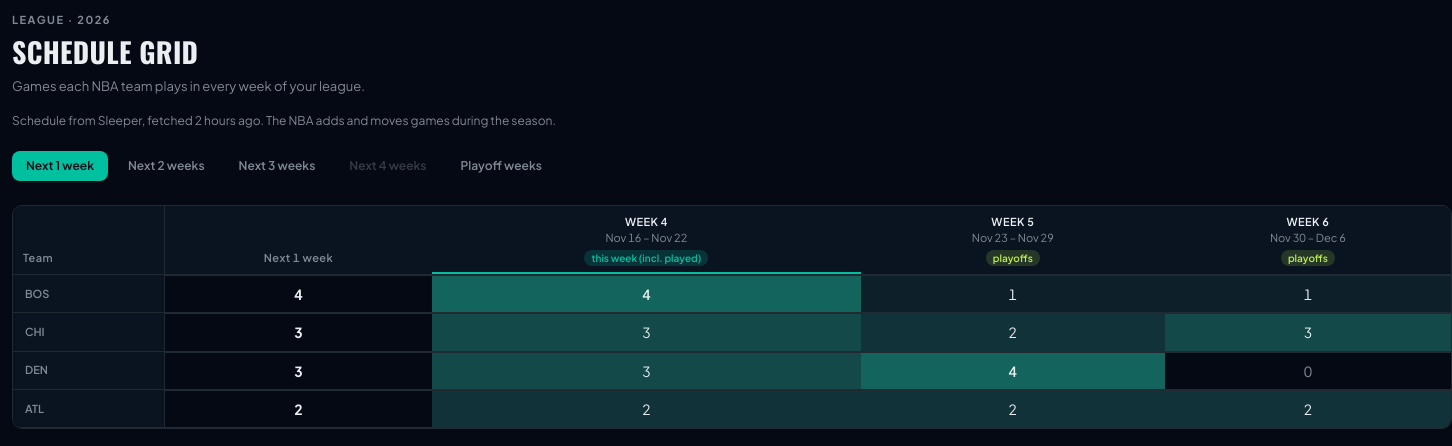
Scenario: Schedule grid › playoff weeks view (US2) › shows only the playoff columns and a per-team total, sorted by it
The image size is (1452, 446).
Expected: the column heading "BOS" is shown, [13,275,165,314]
Click the button "Playoff weeks".
click(501, 166)  # box [446,151,556,181]
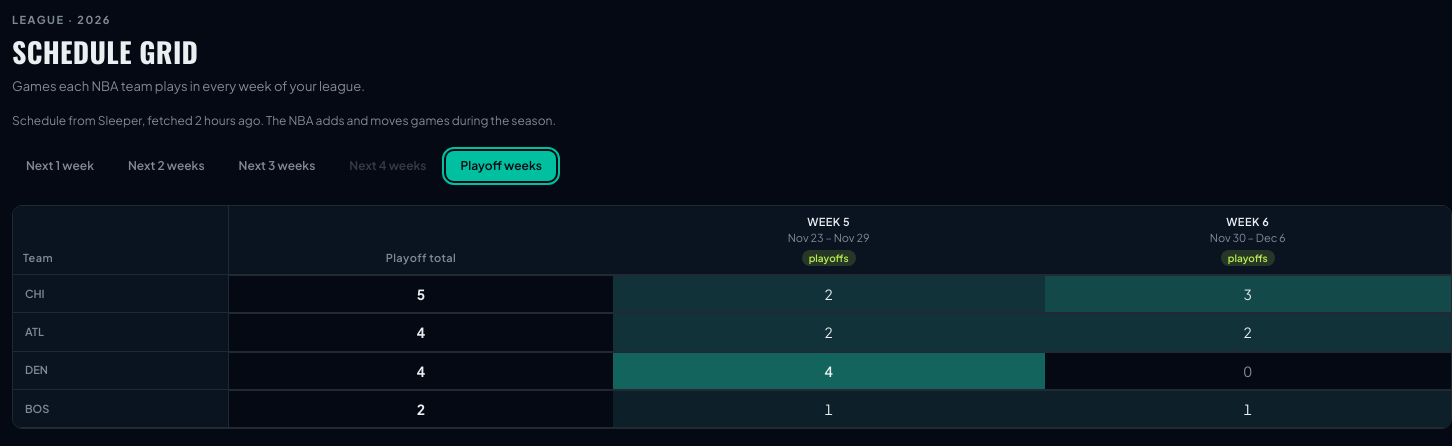
Expected: the column heading "Playoff total" is shown, [229,206,613,275]
Expected: the cell "5" is shown, [229,275,613,314]
